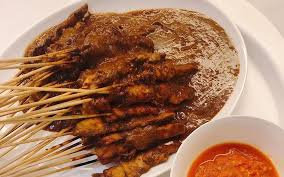sate: (10, 5, 234, 159)
